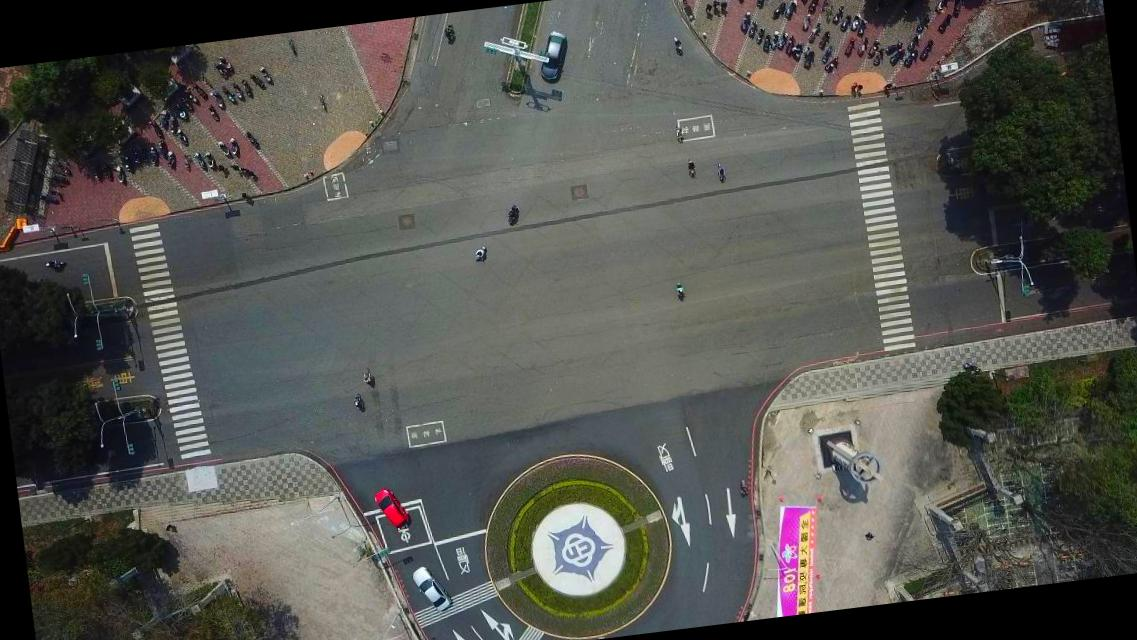vehicle: (410, 564, 450, 615), (534, 30, 570, 81), (372, 488, 408, 529)
